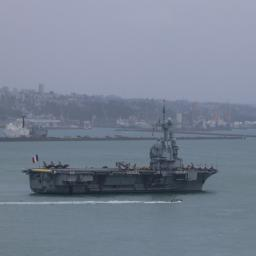Portanaves: (22, 96, 222, 197)
